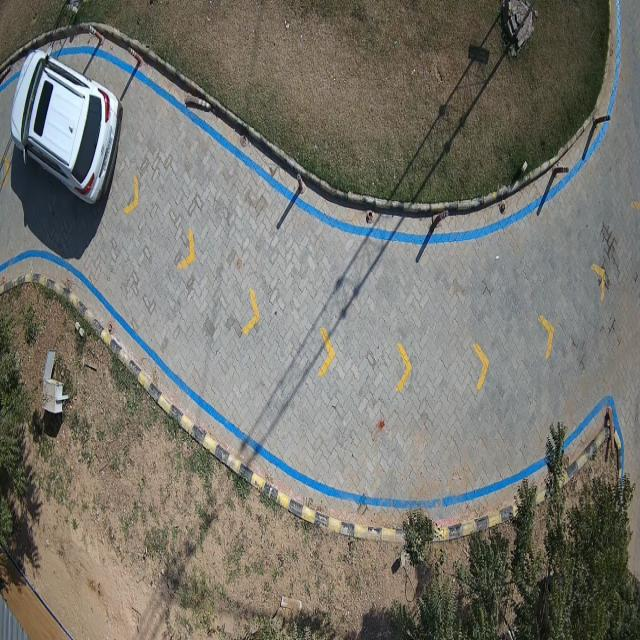car: (11, 49, 121, 202)
